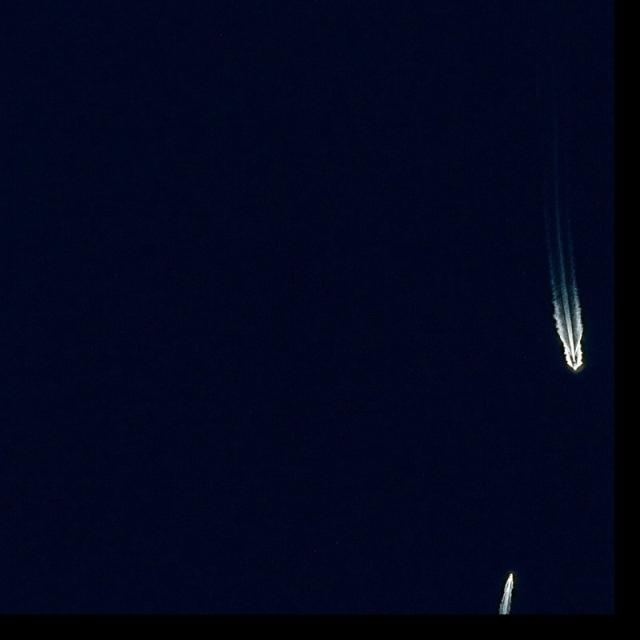ship: (572, 361, 578, 371), (508, 573, 514, 581)
